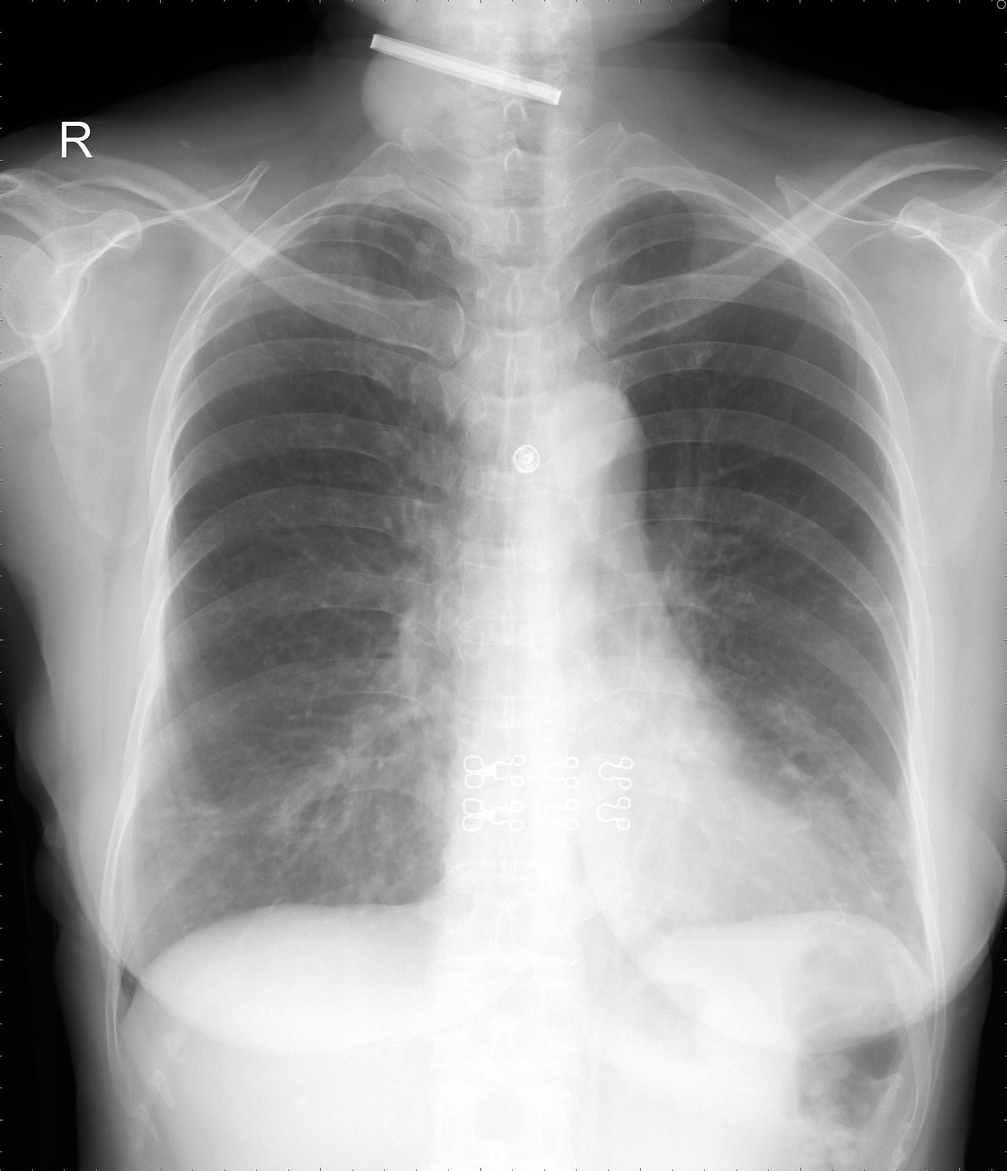Pleural thickening: (735, 204, 825, 278), (220, 219, 326, 280)
